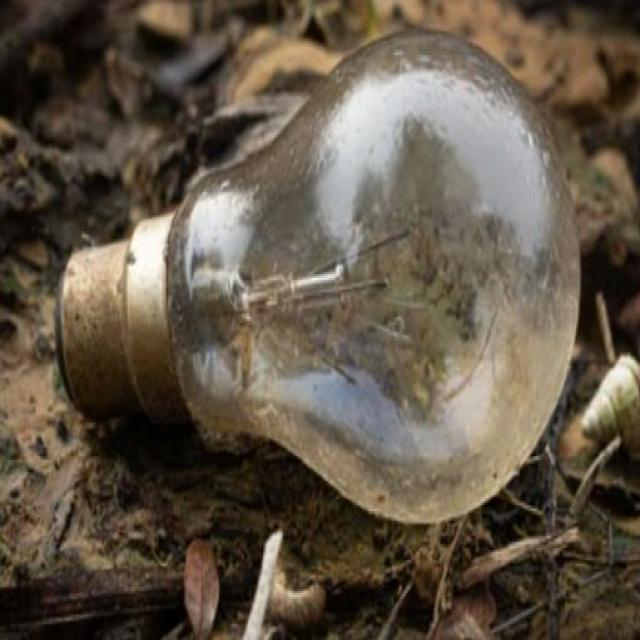electronic: (52, 26, 582, 524)
